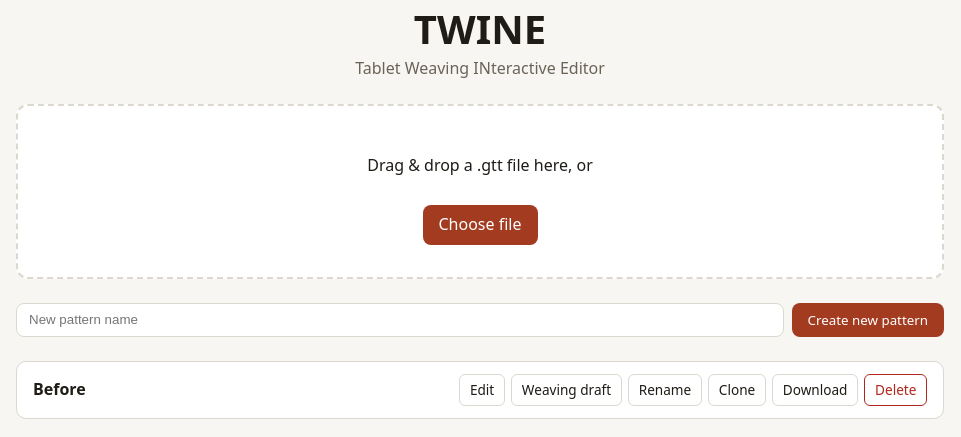
PatternSelectionPage › renames a pattern inline via Enter
Check: the text "Before" is shown, box [33,378,86,400]
Click the button "Rename" at (665, 390), box [628,374,702,406]
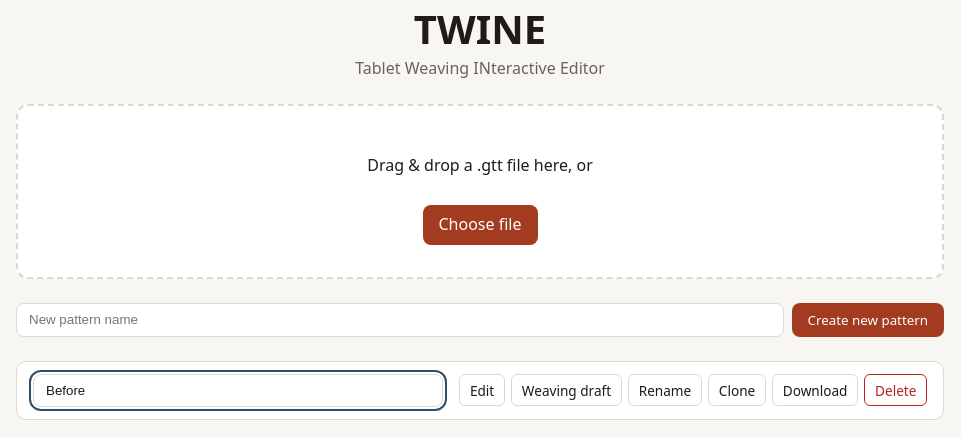
Replace the text in the field named "Rename Before" with "After" at (238, 390), box [33,374,443,407]
Then press Enter
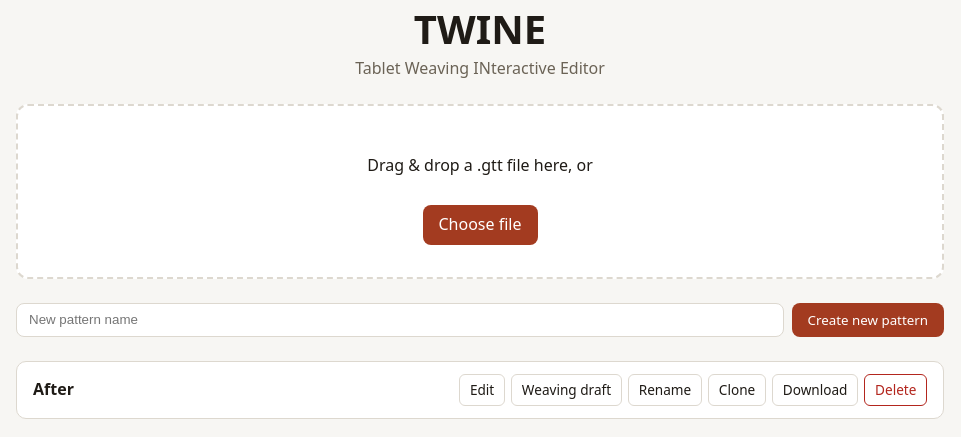
Check: the text "After" is shown, box [33,378,74,400]
